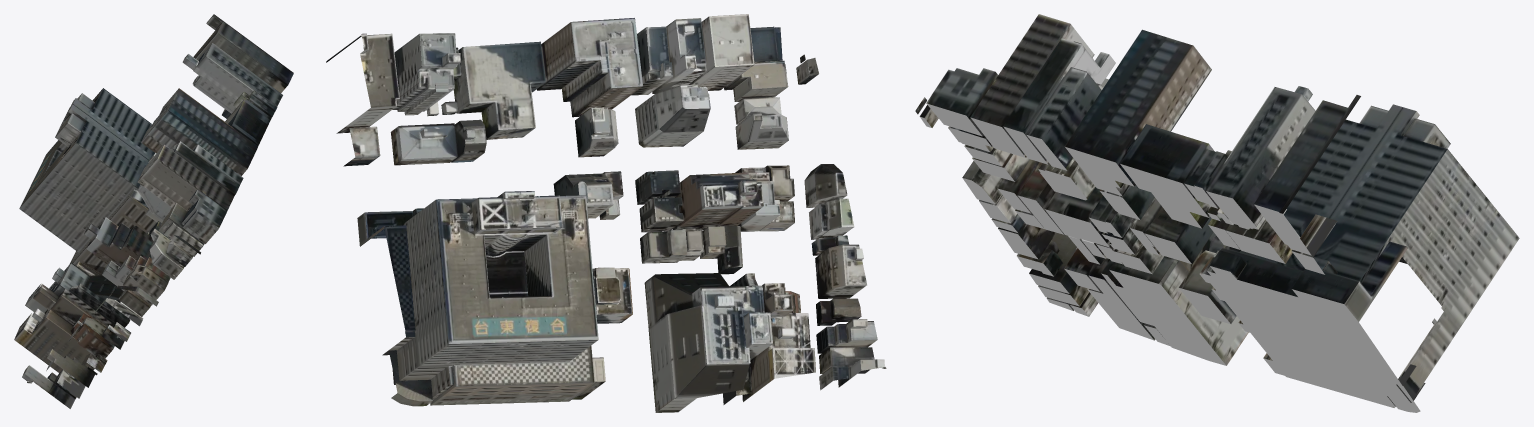
File: 39538_bldg_Building.glb
The picture shows the model from 3 angles, left to right: view 1: azimuth 30°, elevation 25°; view 2: azimuth 150°, elevation 25°; view 3: azimuth 270°, elevation 25°; orthographic projection. The views are drawn at different scales.
Bounding box in the file's own units: 138 × 103 × 145.
3 materials, 2 textured.
